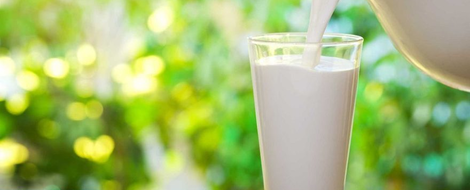glass of milk: (245, 31, 369, 190)
